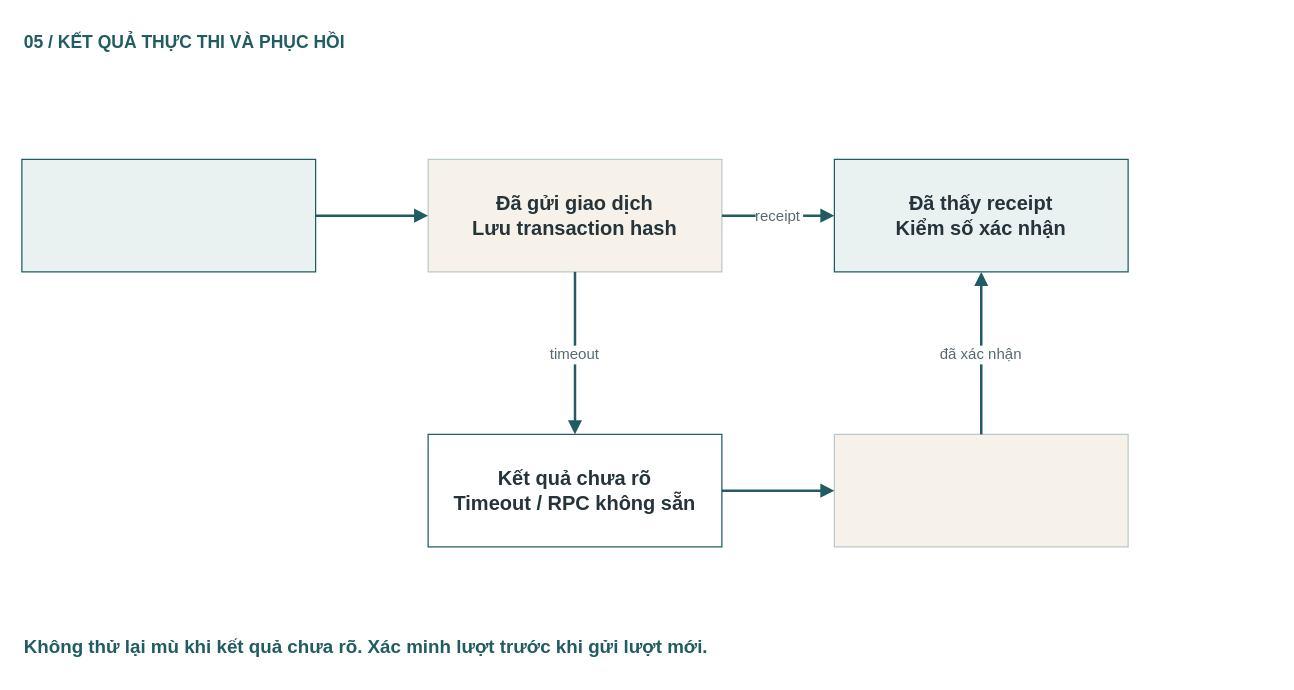
This 1294x690 diagram has some shape labels left out. Here are the shapes that lost their labels. From the top down, the centre of each, then its label:
At [168,215]: "Ghi outbox Step ID ổn định".
At [980,490]: "Đối soát chain Receipt · nonce · tác động".
